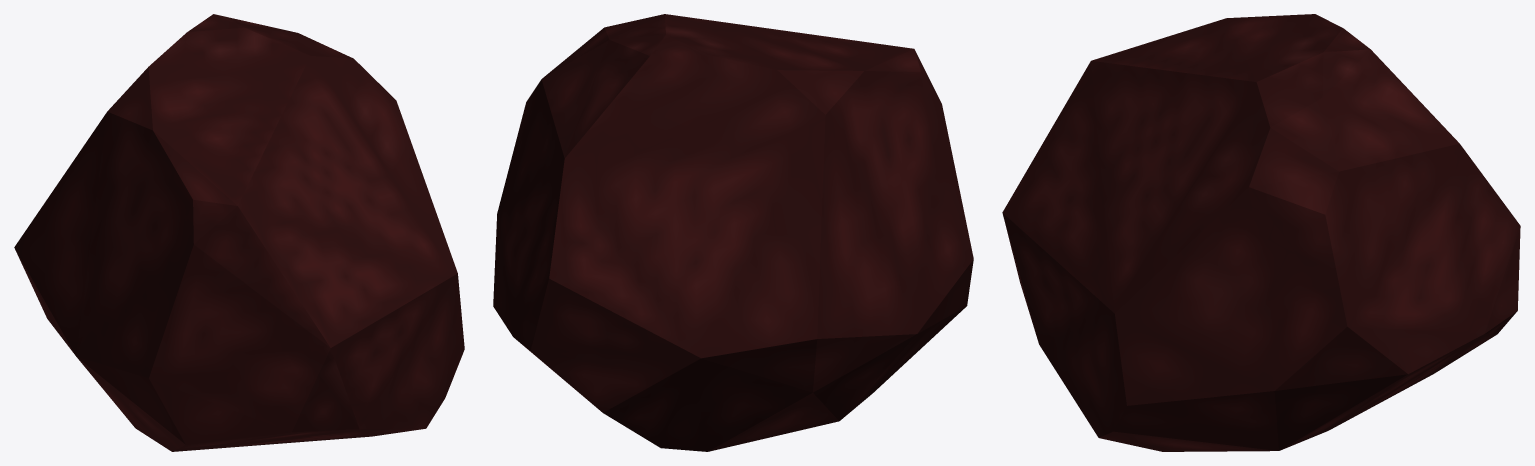
Rendered from pedregulho2.fbx.
3 renders of one model, left to right at view 1: azimuth 30°, elevation 25°; view 2: azimuth 150°, elevation 25°; view 3: azimuth 270°, elevation 25°, orthographic. The views are drawn at different scales.
Parts seen in each view (by area): view 1: PedregulhoM; view 2: PedregulhoM; view 3: PedregulhoM.
Boxes of the visible parts, left/top/right/bottom form: PedregulhoM: left=14, top=14, right=464, bottom=451; PedregulhoM: left=493, top=14, right=973, bottom=451; PedregulhoM: left=1002, top=14, right=1520, bottom=451.
Bounding box in the file's own units: 500 × 500 × 626.
